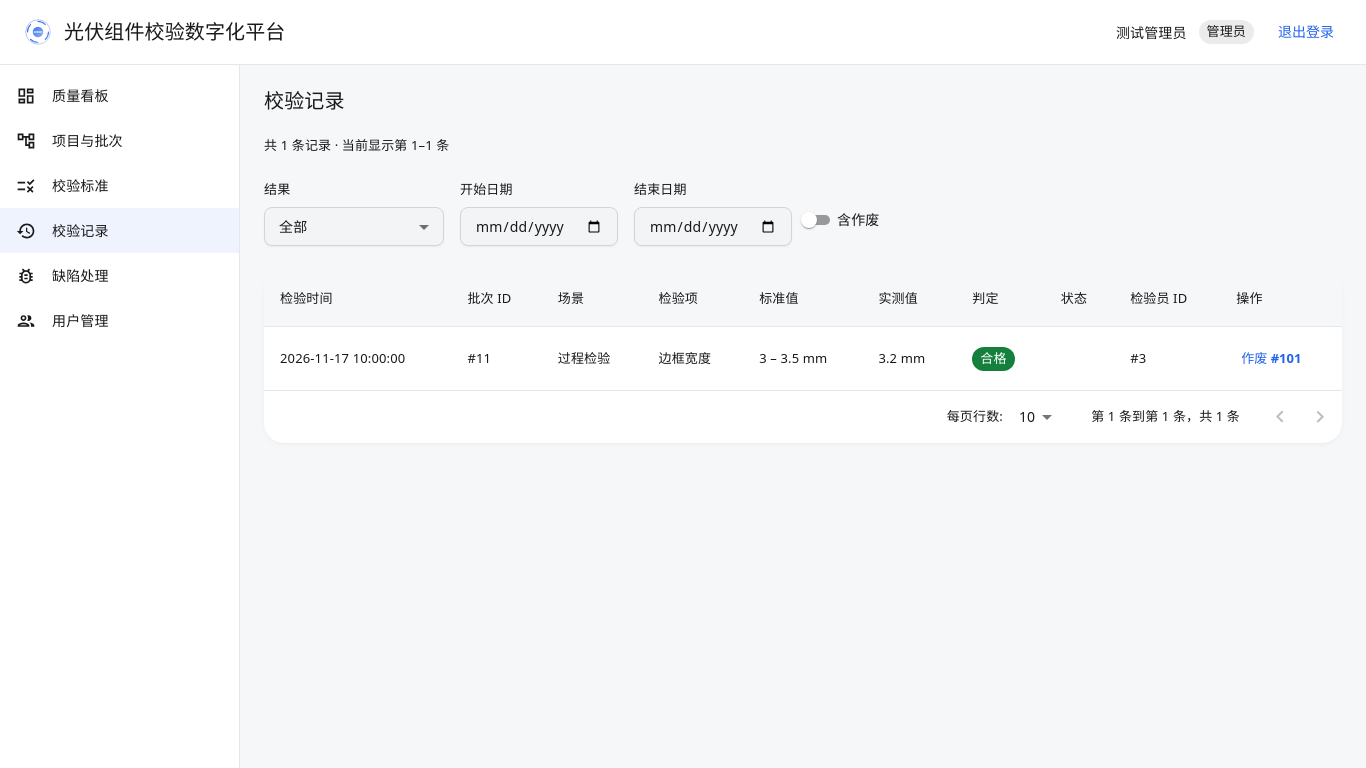
Test case: 作废行默认不显示，打开含作废开关后显示并标注原因
This screenshot has width=1366, height=768.
Expected: the text "边框宽度" is shown, [642,327,743,391]
Expected: the text "已作废" is not shown
Step 1. Click the switch labelled "含作废" → {"x": 838, "y": 220}, box [797,208,879,232]
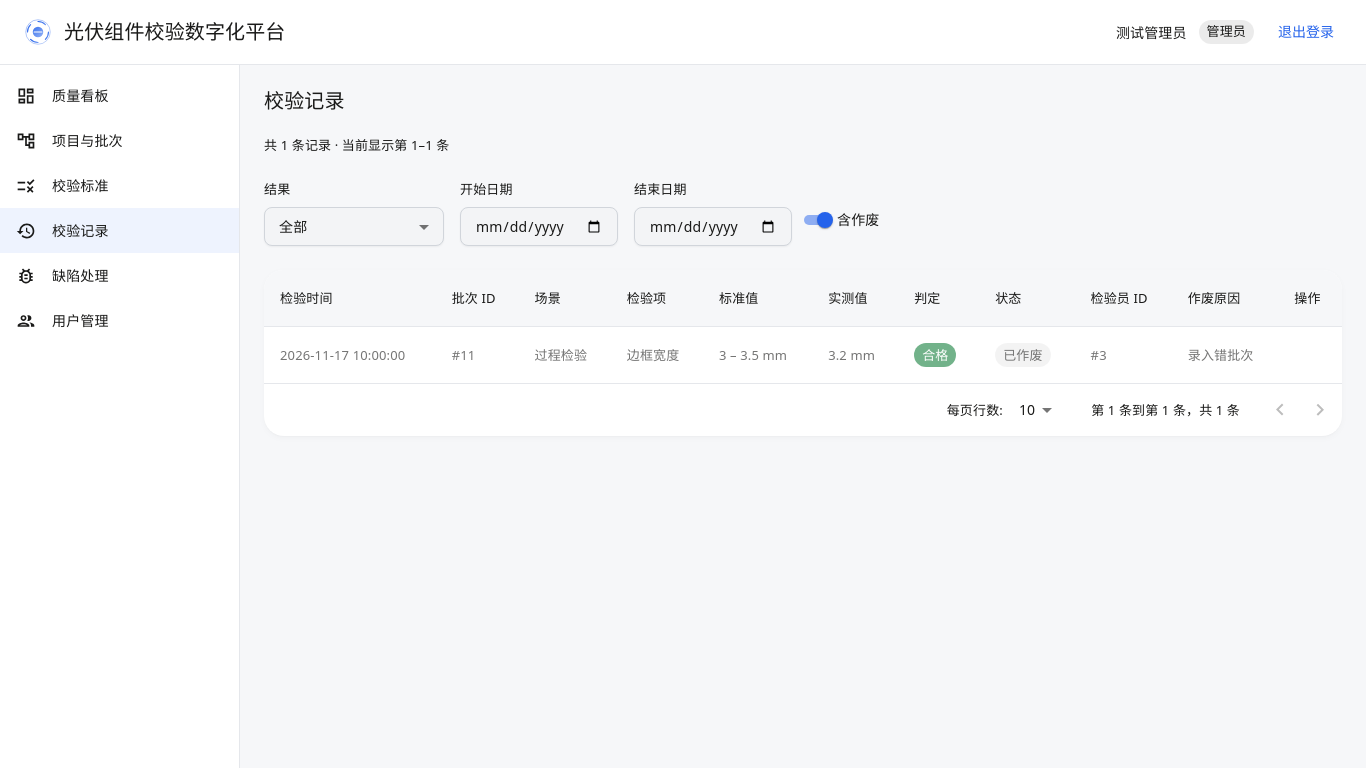
Expected: the text "已作废" is shown, [1003,346,1043,364]
Expected: the text "录入错批次" is shown, [1172,327,1278,384]
